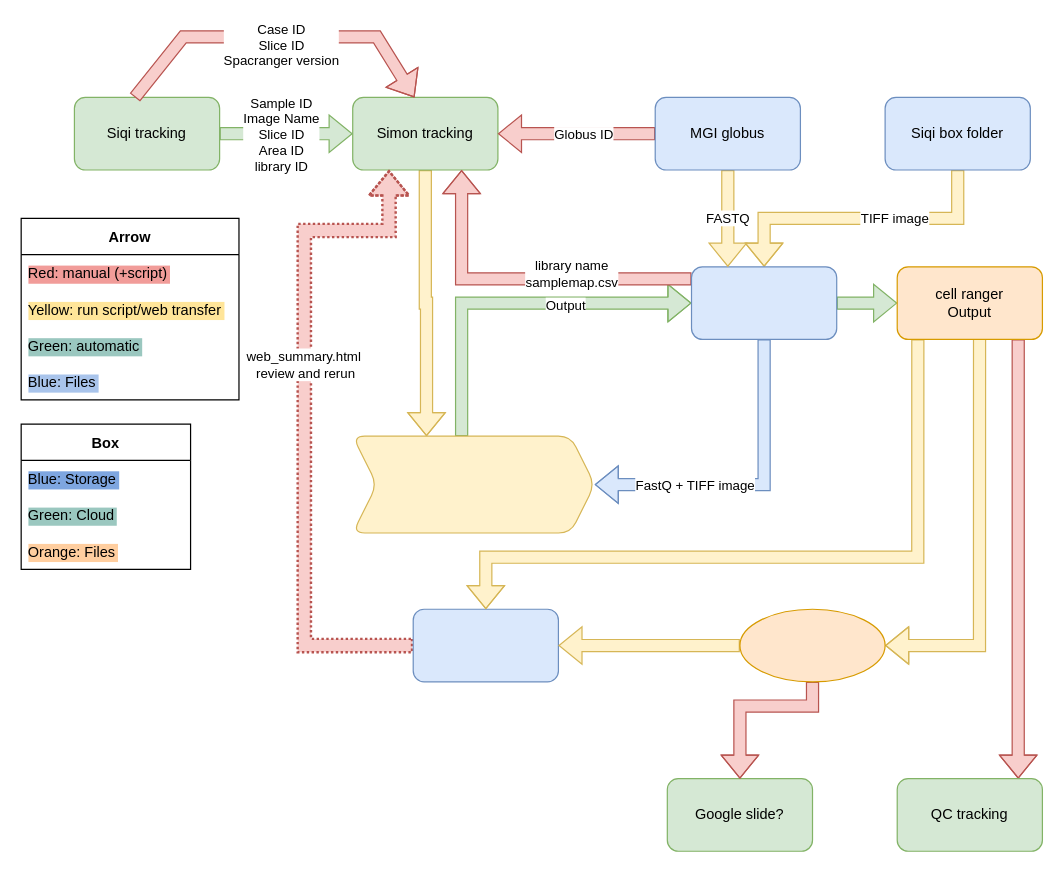
This 1064x872 diagram has some shape labels left out. The shapes that lost their labels are listed below. From the top down, each one's centre as x and y in pixels, then its label:
[763,302]: Katmai
[473,484]: spaceranger count
[485,645]: Box folder
[812,645]: ST summary plot
